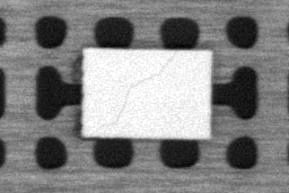DIE_CRACK: (102, 50, 179, 125)
